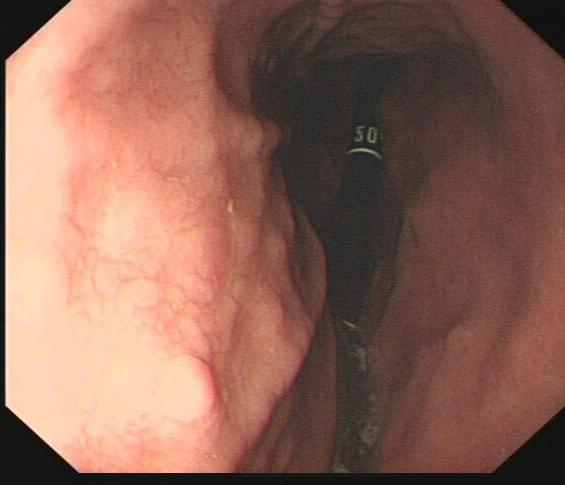Polyp: (145, 348, 220, 427)
